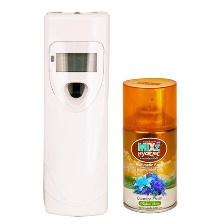aerosol_cans: (116, 71, 180, 218)
